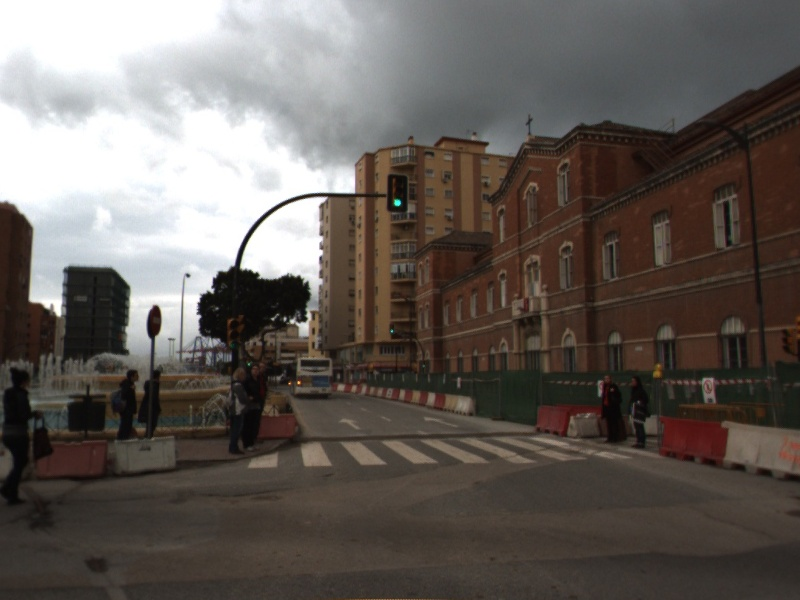STRAIGHT: (422, 414, 461, 430), (337, 415, 364, 431)
